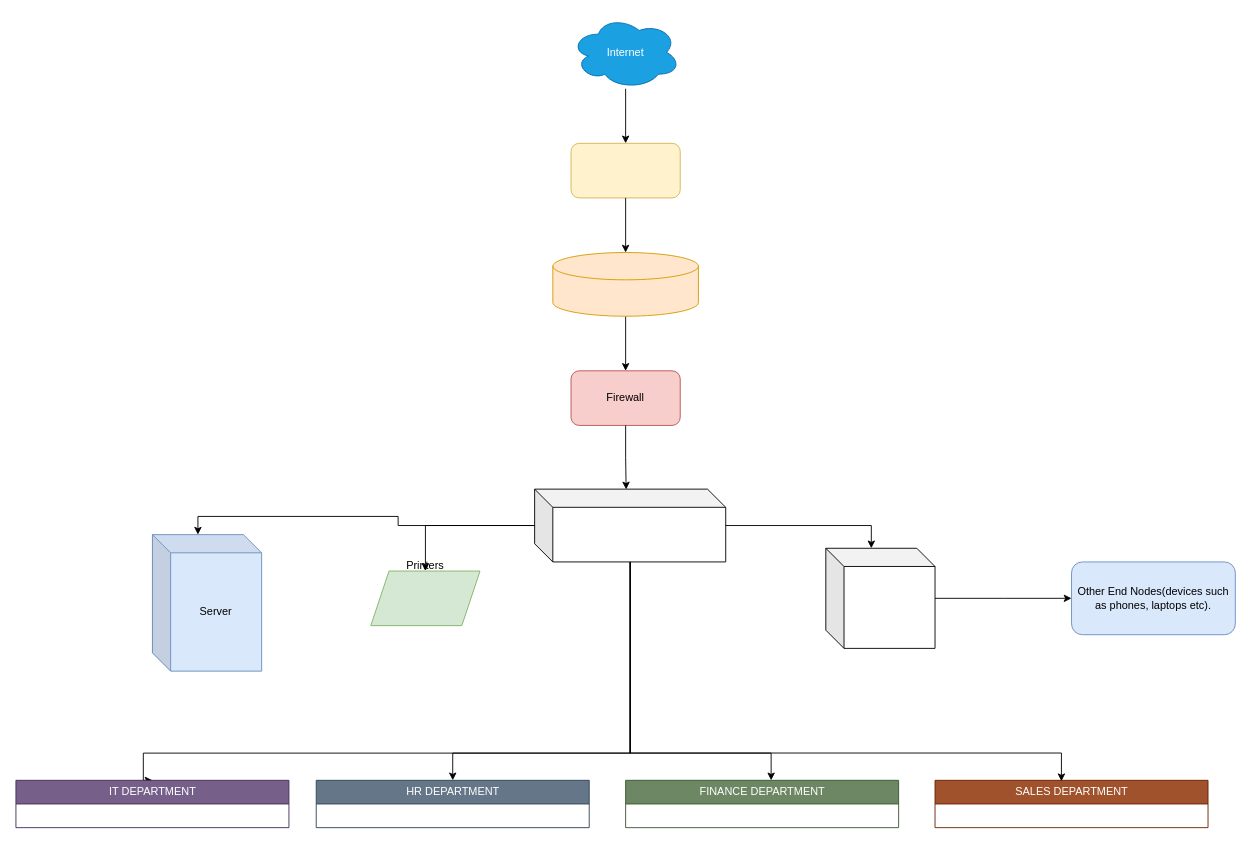
The diagram is 1251 pixels wide and 844 high, and some of its shapes have lost their labels. The shapes that lost their labels are listed below. From the top down, each one's box as (x1, y1, x2, y2) in pixels, then its label:
(570, 142, 680, 198): ISP
(552, 252, 698, 316): Router
(534, 488, 726, 562): Switch
(825, 547, 935, 648): Access Poiint
